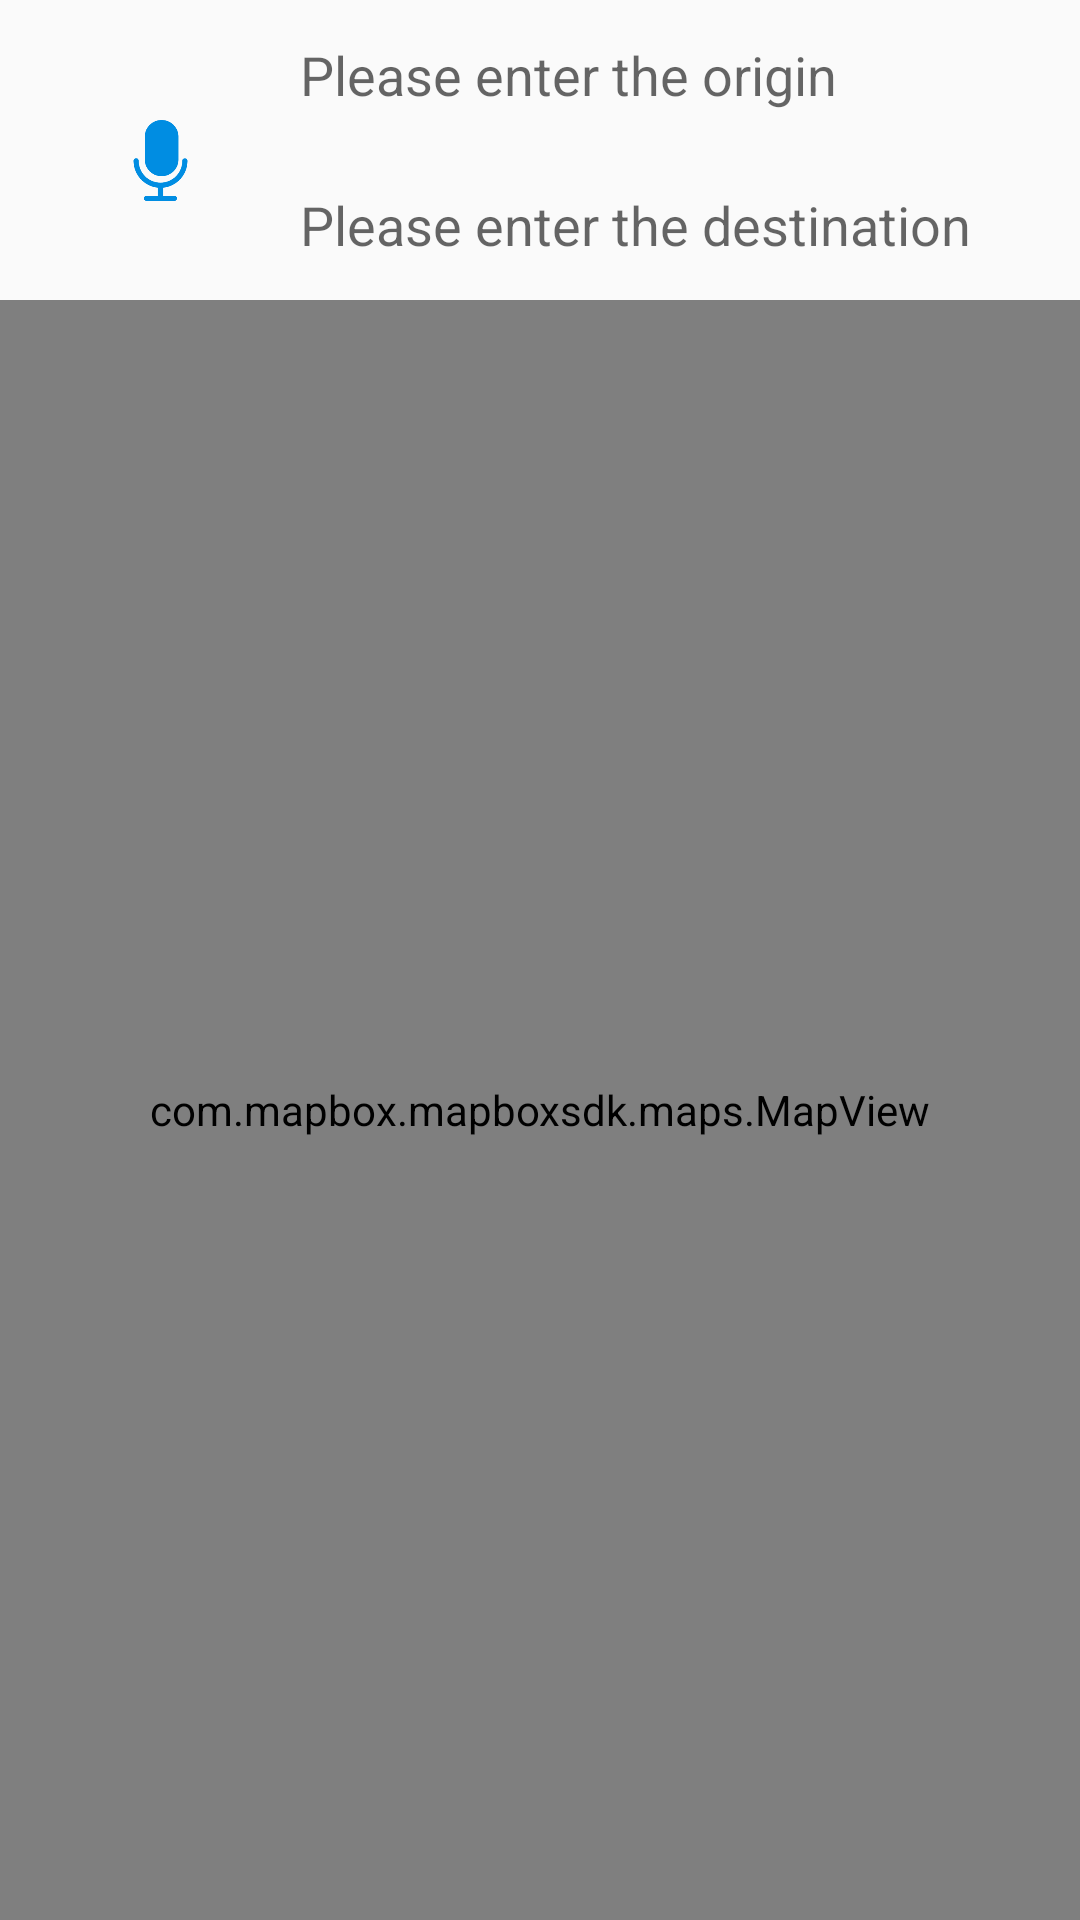

Point at icon controls on the screen. Image size 1080*1920, points as [x,y].
voice: [160,160]
